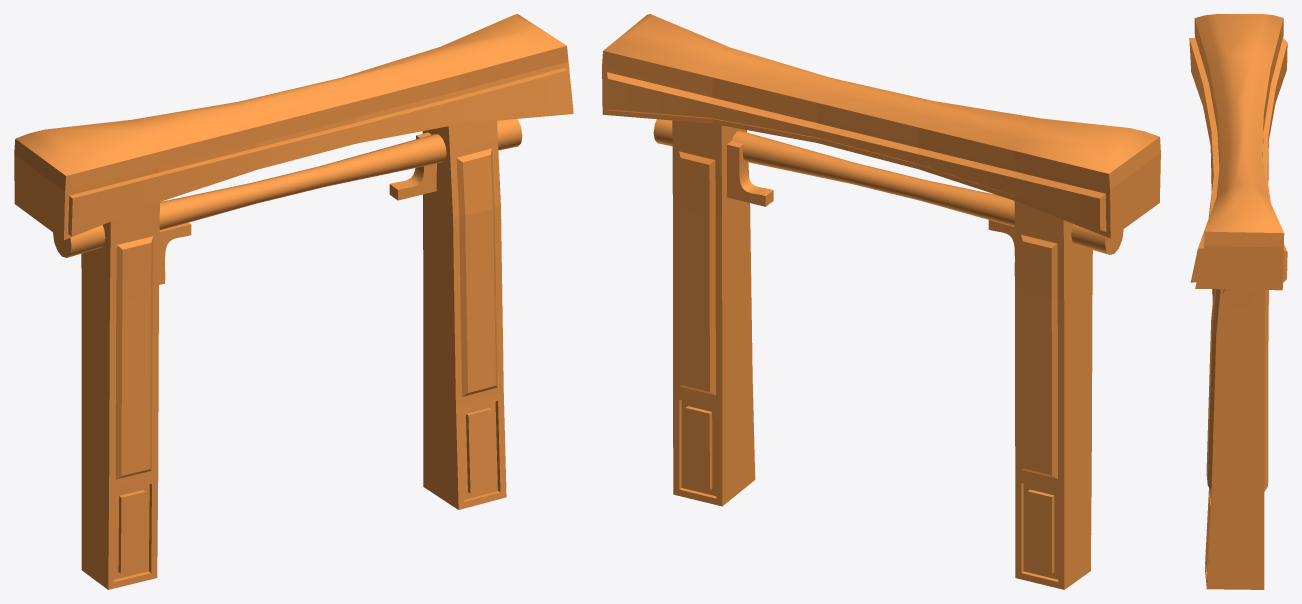
The model's file is Arco.FBX.
The picture shows the model from 3 angles, left to right: view 1: azimuth 30°, elevation 25°; view 2: azimuth 150°, elevation 25°; view 3: azimuth 270°, elevation 25°; orthographic projection. The views are drawn at different scales.
Visible parts, largest first — view 1: Object002, Object003, Box002, Cylinder001, Line002, Line001; view 2: Object002, Object003, Box002, Cylinder001, Line002; view 3: Object002, Object003, Cylinder001.
Boxes of the visible parts, x1,y1,x2,y2 form: Object002: [14, 14, 573, 240]; Object003: [422, 120, 506, 509]; Box002: [81, 202, 159, 589]; Cylinder001: [53, 119, 522, 257]; Line002: [389, 132, 436, 200]; Line001: [159, 222, 191, 284]; Object002: [602, 14, 1160, 238]; Object003: [672, 120, 755, 506]; Box002: [1014, 201, 1092, 589]; Cylinder001: [653, 119, 1123, 254]; Line002: [727, 141, 773, 206]; Object002: [1189, 14, 1287, 290]; Object003: [1205, 289, 1268, 589]; Cylinder001: [1223, 289, 1252, 308].
Size of the model in its own units: 518 by 440 by 99.19.
